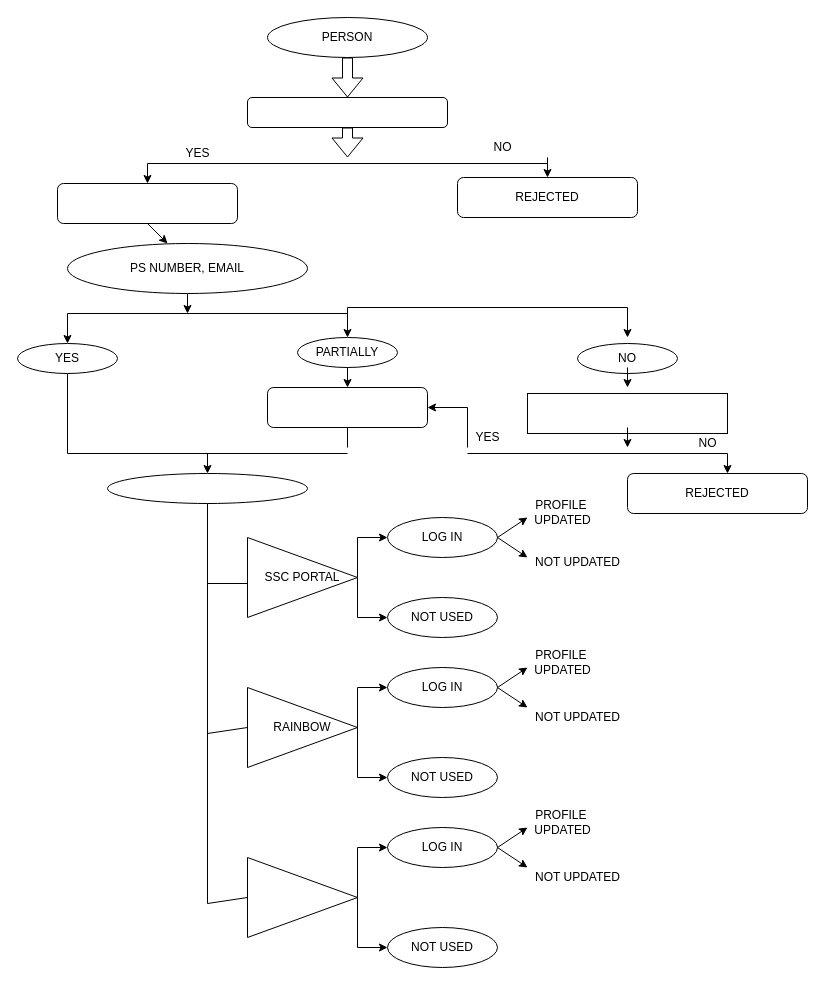
This 825x985 diagram has some shape labels left out. The shapes that lost their labels are listed below. From the top down, each one's box as (x1, y1, x2, y2) in pixels, then its label:
(246, 96, 448, 128): OFFER LETTER
(56, 182, 238, 224): SELECTED
(266, 386, 428, 428): IT CONNNECT
(526, 392, 728, 434): SERVICE AGREEMENT SUBMISSION
(106, 472, 308, 504): GEA TRAINING
(246, 856, 358, 938): SUBMITTY
